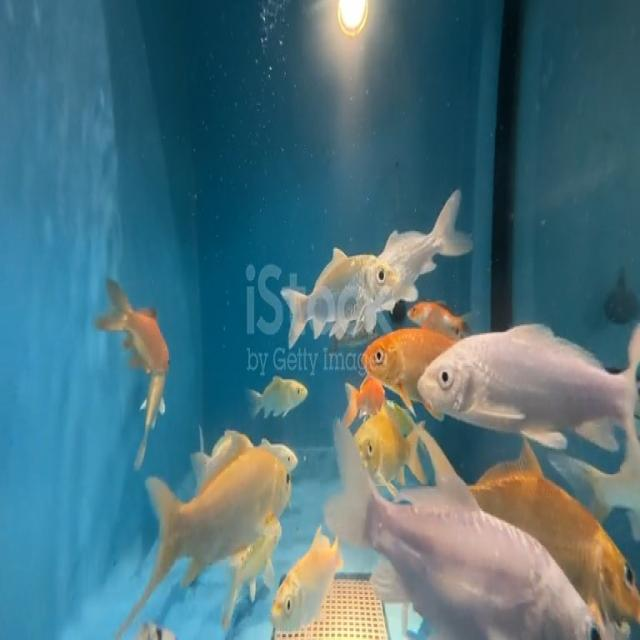fish: (325, 412, 608, 640), (417, 314, 640, 472), (132, 434, 295, 620), (503, 442, 640, 629), (277, 239, 403, 350), (347, 402, 442, 499), (91, 268, 177, 375), (376, 184, 476, 272), (270, 523, 347, 636), (352, 303, 438, 399), (220, 511, 284, 631), (130, 359, 168, 470), (245, 366, 309, 431), (338, 364, 392, 423), (404, 289, 470, 334), (262, 437, 302, 470)
